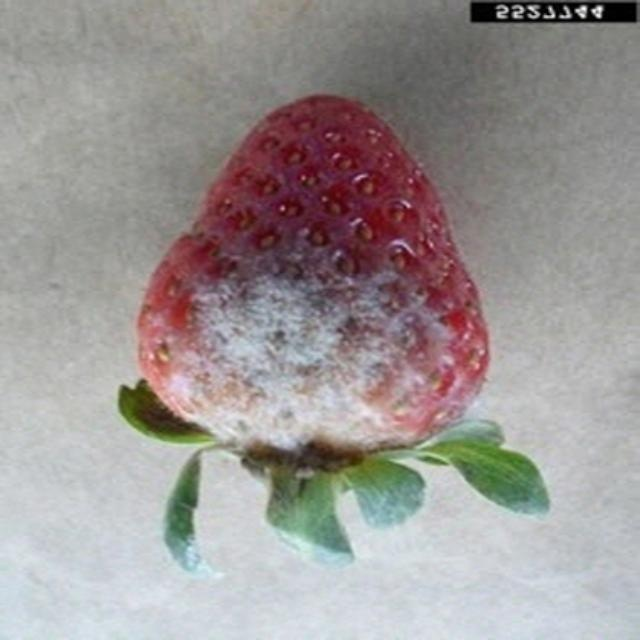Powdery Mildew Fruit: (134, 216, 494, 463)
